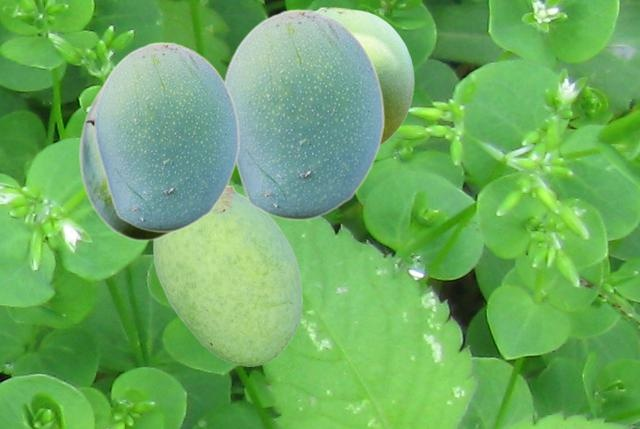green_mango: (223, 8, 384, 220), (93, 41, 239, 232), (153, 183, 301, 365), (78, 81, 182, 240), (315, 6, 413, 145)
